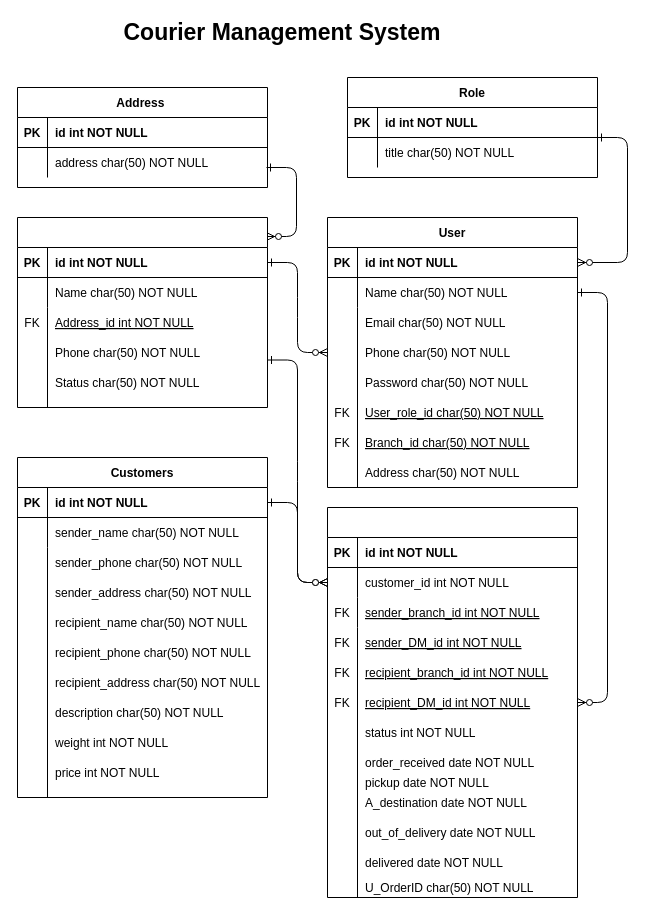
This 654x916 diagram has some shape labels left out. Each missing label, with the box of its shape:
Branch: (16, 216, 268, 408)
Customer Orders: (326, 506, 578, 898)
